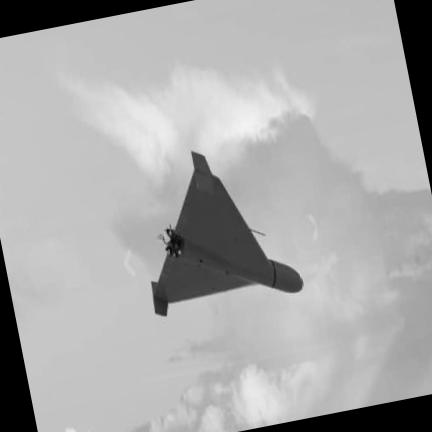Shahed: (151, 153, 302, 316)
